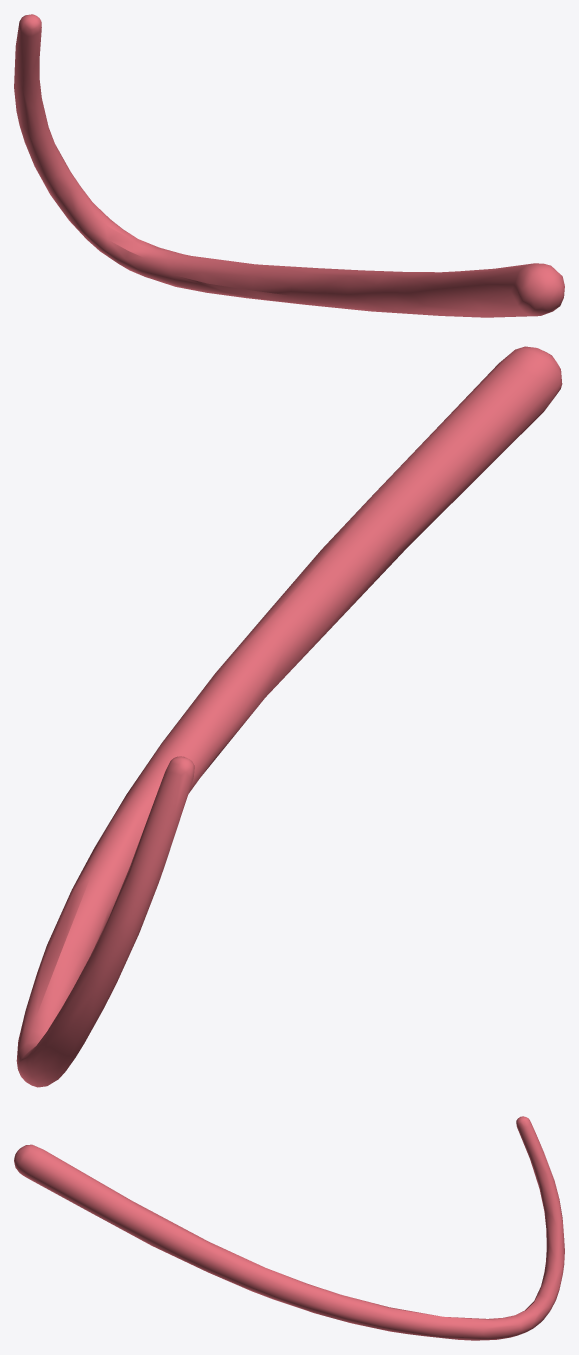
The model's file is fma23181_fj2221.glb.
3 views of the same model, one above another, from view 1: azimuth 30°, elevation 25°; view 2: azimuth 150°, elevation 25°; view 3: azimuth 270°, elevation 25° (orthographic). The views are drawn at different scales.
Visible parts, largest first — view 1: FMA23181_FJ2221; view 2: FMA23181_FJ2221; view 3: FMA23181_FJ2221.
Boxes of the visible parts, bbox=[...] form: FMA23181_FJ2221: bbox=[14, 14, 564, 317]; FMA23181_FJ2221: bbox=[16, 346, 562, 1087]; FMA23181_FJ2221: bbox=[14, 1116, 564, 1340].
Size of the model in its own units: 0.0101 by 0.0134 by 0.0356.
